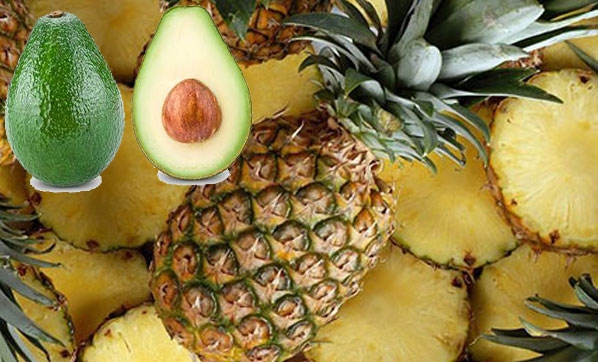pineapple: (136, 113, 412, 362)
